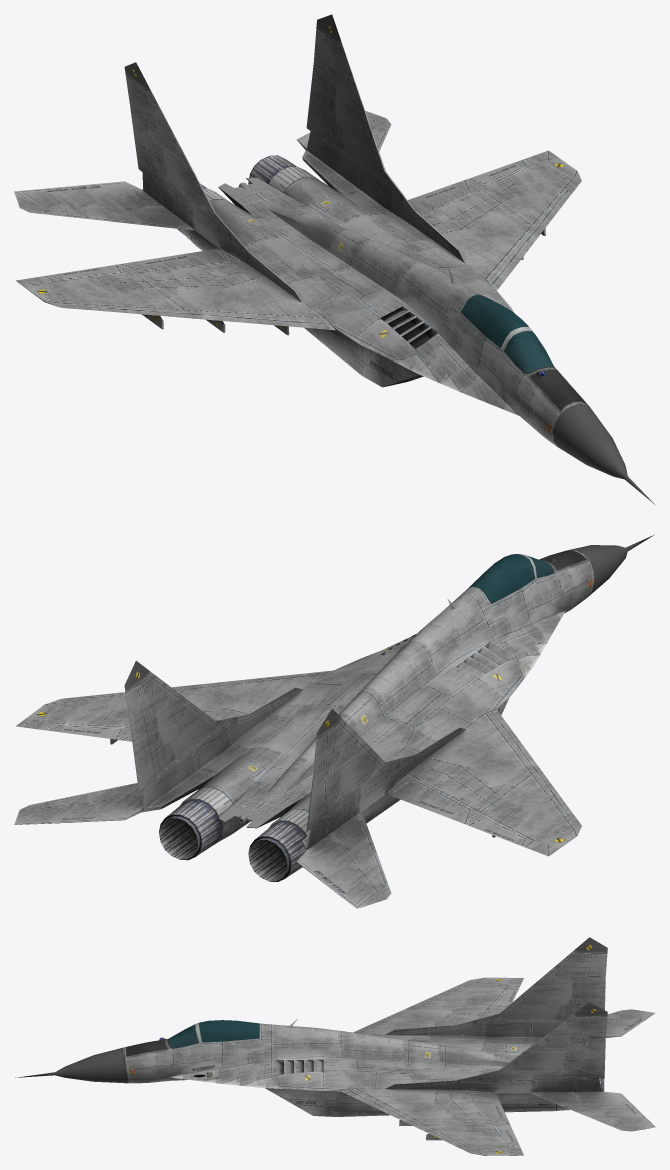
Rendered from mig-29.glb.
3 renders of one model, top to bottom at view 1: azimuth 30°, elevation 25°; view 2: azimuth 150°, elevation 25°; view 3: azimuth 270°, elevation 25°, orthographic. The views are drawn at different scales.
Visible parts, largest first — view 1: MiG 29 body, glass.001, glass, MiG 29.002; view 2: MiG 29 body, glass.001, MiG 29.002, MiG 29.004; view 3: MiG 29 body, glass.001, glass, MiG 29.004.
Boxes of the visible parts, <box> form: MiG 29 body: <box>14,14,655,505</box>; glass.001: <box>460,294,528,347</box>; glass: <box>504,330,553,372</box>; MiG 29.002: <box>218,177,285,208</box>; MiG 29 body: <box>14,534,654,908</box>; glass.001: <box>469,554,535,603</box>; MiG 29.002: <box>218,797,285,828</box>; MiG 29.004: <box>460,554,536,613</box>; MiG 29 body: <box>15,937,655,1155</box>; glass.001: <box>199,1020,259,1042</box>; glass: <box>168,1024,198,1048</box>; MiG 29.004: <box>197,1023,280,1043</box>.
Bounding box in the file's own units: 11.7 × 3.99 × 17.88.
Materials: 2 (2 with a texture image).
